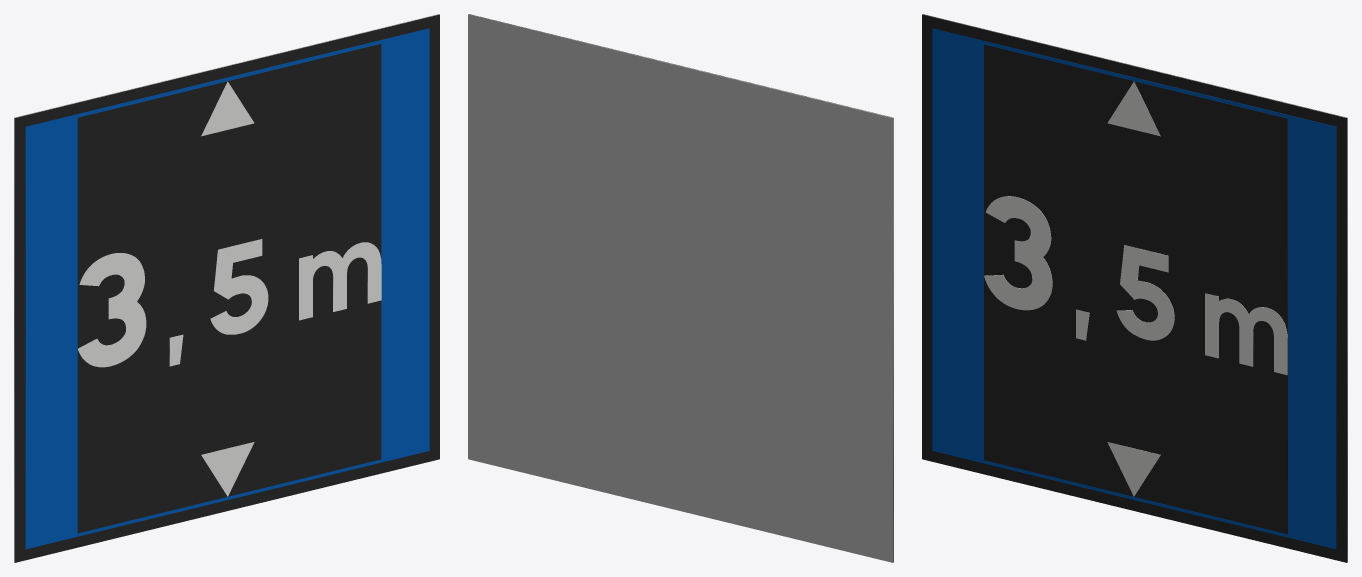
3 views of the same model, side by side, from view 1: azimuth 30°, elevation 25°; view 2: azimuth 150°, elevation 25°; view 3: azimuth 330°, elevation 25° (orthographic).
Visible parts, largest first — view 1: SC7_p04, SC7_p03, SC7_p01, SC7_p05, SC7_dos, SC7_p02; view 2: SC7_dos, SC7_p00, SC7_p01; view 3: SC7_p04, SC7_p03, SC7_p01, SC7_p05, SC7_dos, SC7_p02.
Boxes of the visible parts, x1,y1,x2,y2 form: SC7_p04: (77,44,381,533); SC7_p03: (25,28,429,549); SC7_p01: (14,14,439,562); SC7_p05: (78,81,381,496); SC7_dos: (14,14,438,562); SC7_p02: (25,29,425,548); SC7_dos: (468,14,893,562); SC7_p00: (468,14,893,562); SC7_p01: (469,14,893,561); SC7_p04: (984,44,1287,534); SC7_p03: (932,28,1336,549); SC7_p01: (922,14,1347,562); SC7_p05: (984,81,1287,496); SC7_dos: (923,14,1347,562); SC7_p02: (936,29,1336,548).
Size of the model in its own units: 0.7 by 0.7 by 0.0039.
